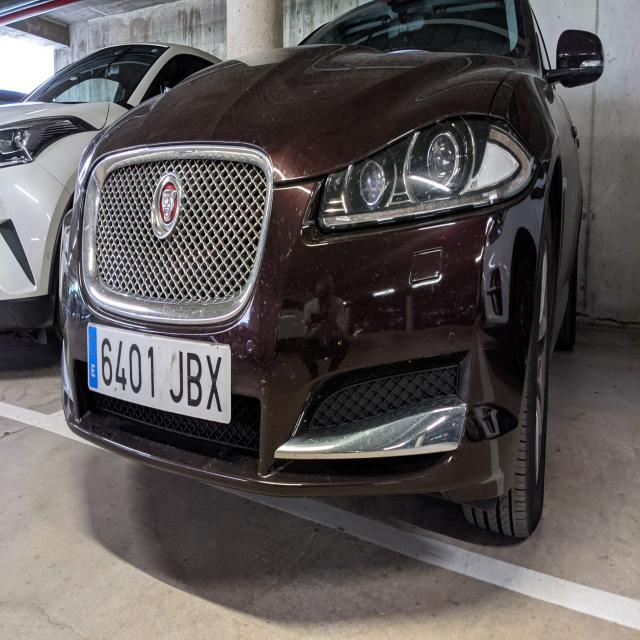license_plate-34Td: (87, 323, 231, 424)
